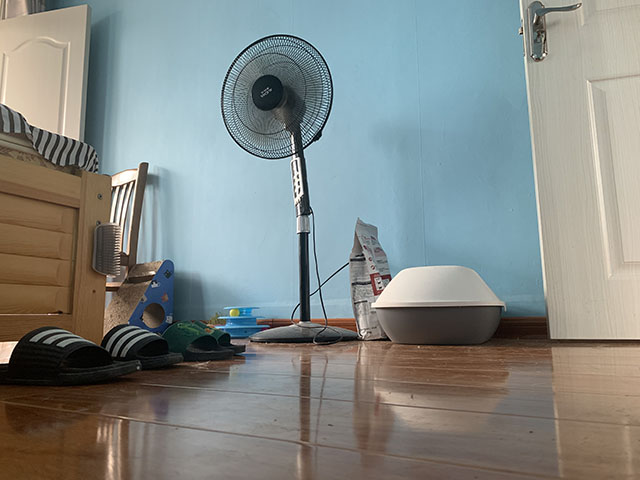slippers: (1, 326, 136, 387), (103, 326, 182, 366), (166, 319, 245, 359)
wire: (290, 205, 350, 346)
